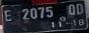plate: (1, 1, 88, 31)
